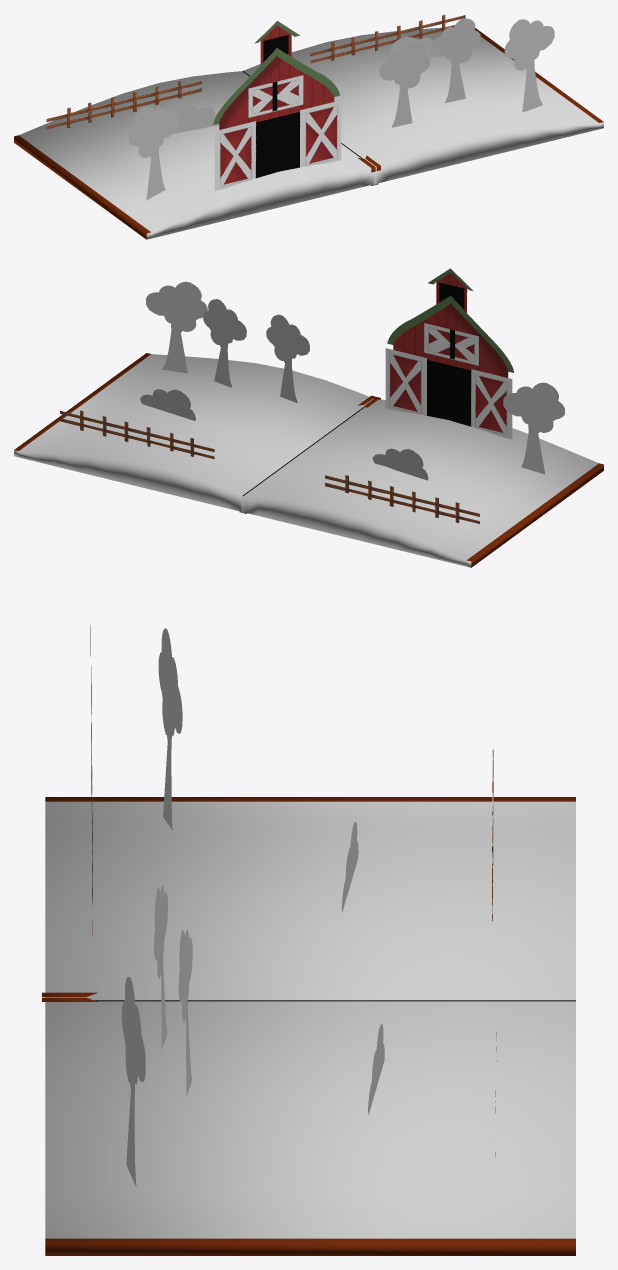
The model's file is Fase fazenda com textura e livro.fbx.
The picture shows the model from 3 angles, top to bottom: view 1: azimuth 30°, elevation 25°; view 2: azimuth 150°, elevation 25°; view 3: azimuth 270°, elevation 25°; orthographic projection. The views are drawn at different scales.
Visible parts, largest first — view 1: Cube.014, estaleiro, arvore esquerd 3, images (7).003, arvore esqrd 2, images (7).001, cerca.001, cerca, images (7), images (7).005; view 2: Cube.014, estaleiro, arvore esquerd 3, images (7).003, arvore esqrd 2, images (7).001, cerca.001, cerca, images (7).005, images (7); view 3: Cube.014, arvore esquerd 3, images (7).003, images (7).001, arvore esqrd 2.
Part boxes in pixels (x1=…): Cube.014: x1=14, y1=27, x2=603, y2=239; estaleiro: x1=213, y1=21, x2=341, y2=190; arvore esquerd 3: x1=504, y1=19, x2=554, y2=112; images (7).003: x1=129, y1=106, x2=178, y2=200; arvore esqrd 2: x1=430, y1=18, x2=480, y2=102; images (7).001: x1=379, y1=43, x2=429, y2=127; cerca.001: x1=46, y1=80, x2=201, y2=128; cerca: x1=310, y1=14, x2=465, y2=62; images (7): x1=173, y1=105, x2=219, y2=133; images (7).005: x1=385, y1=36, x2=436, y2=61; Cube.014: x1=14, y1=353, x2=603, y2=567; estaleiro: x1=385, y1=268, x2=513, y2=439; arvore esquerd 3: x1=146, y1=281, x2=207, y2=372; images (7).003: x1=503, y1=382, x2=564, y2=474; arvore esqrd 2: x1=203, y1=299, x2=246, y2=387; images (7).001: x1=266, y1=314, x2=309, y2=403; cerca.001: x1=325, y1=475, x2=479, y2=523; cerca: x1=60, y1=410, x2=214, y2=459; images (7).005: x1=140, y1=389, x2=195, y2=420; images (7): x1=372, y1=448, x2=428, y2=480; Cube.014: x1=42, y1=797, x2=575, y2=1255; arvore esquerd 3: x1=121, y1=977, x2=145, y2=1186; images (7).003: x1=158, y1=628, x2=182, y2=830; images (7).001: x1=154, y1=886, x2=167, y2=1049; arvore esqrd 2: x1=178, y1=929, x2=192, y2=1097.
Bounding box in the file's own units: 12.55 × 4.65 × 6.34.
